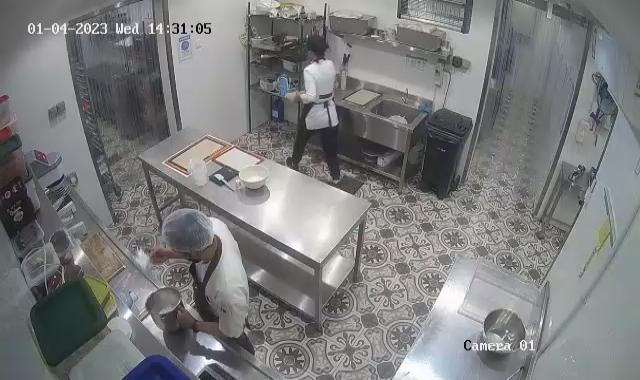hairnet: (162, 208, 217, 258)
no_hairnet: (302, 36, 332, 58)
